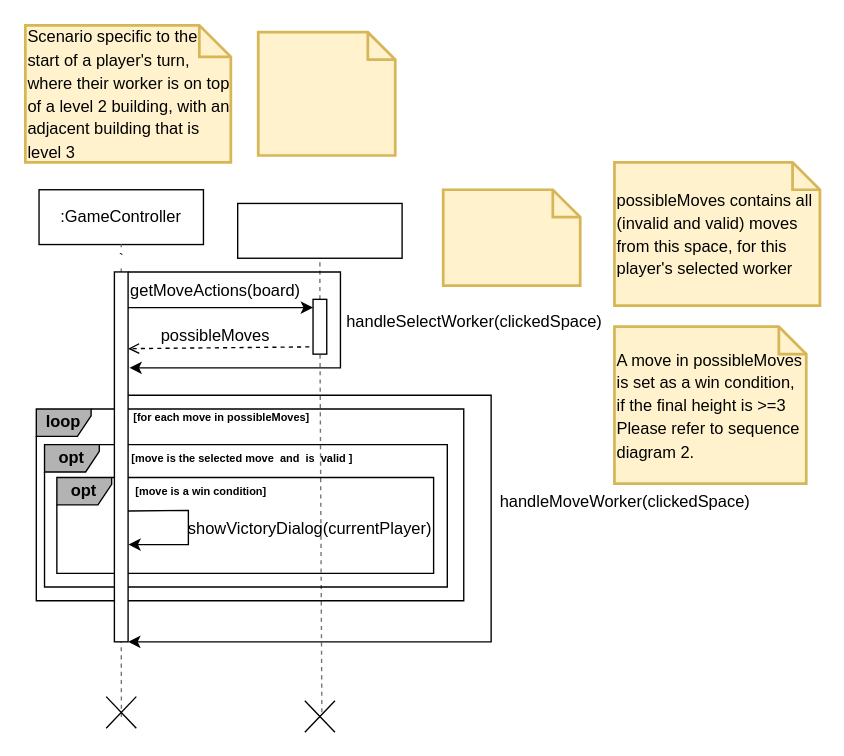
Some shapes in this 844 by 756 pixel diagram are drawn without their labels. The centre of each missing label's shape, as x and y in pixels:
clickedSpace contains the player's worker on a level 2 building: the point at 511,237
This sequence diagram illustrates the winning of the game: the point at 326,93
worker:Worker: the point at 319,230
